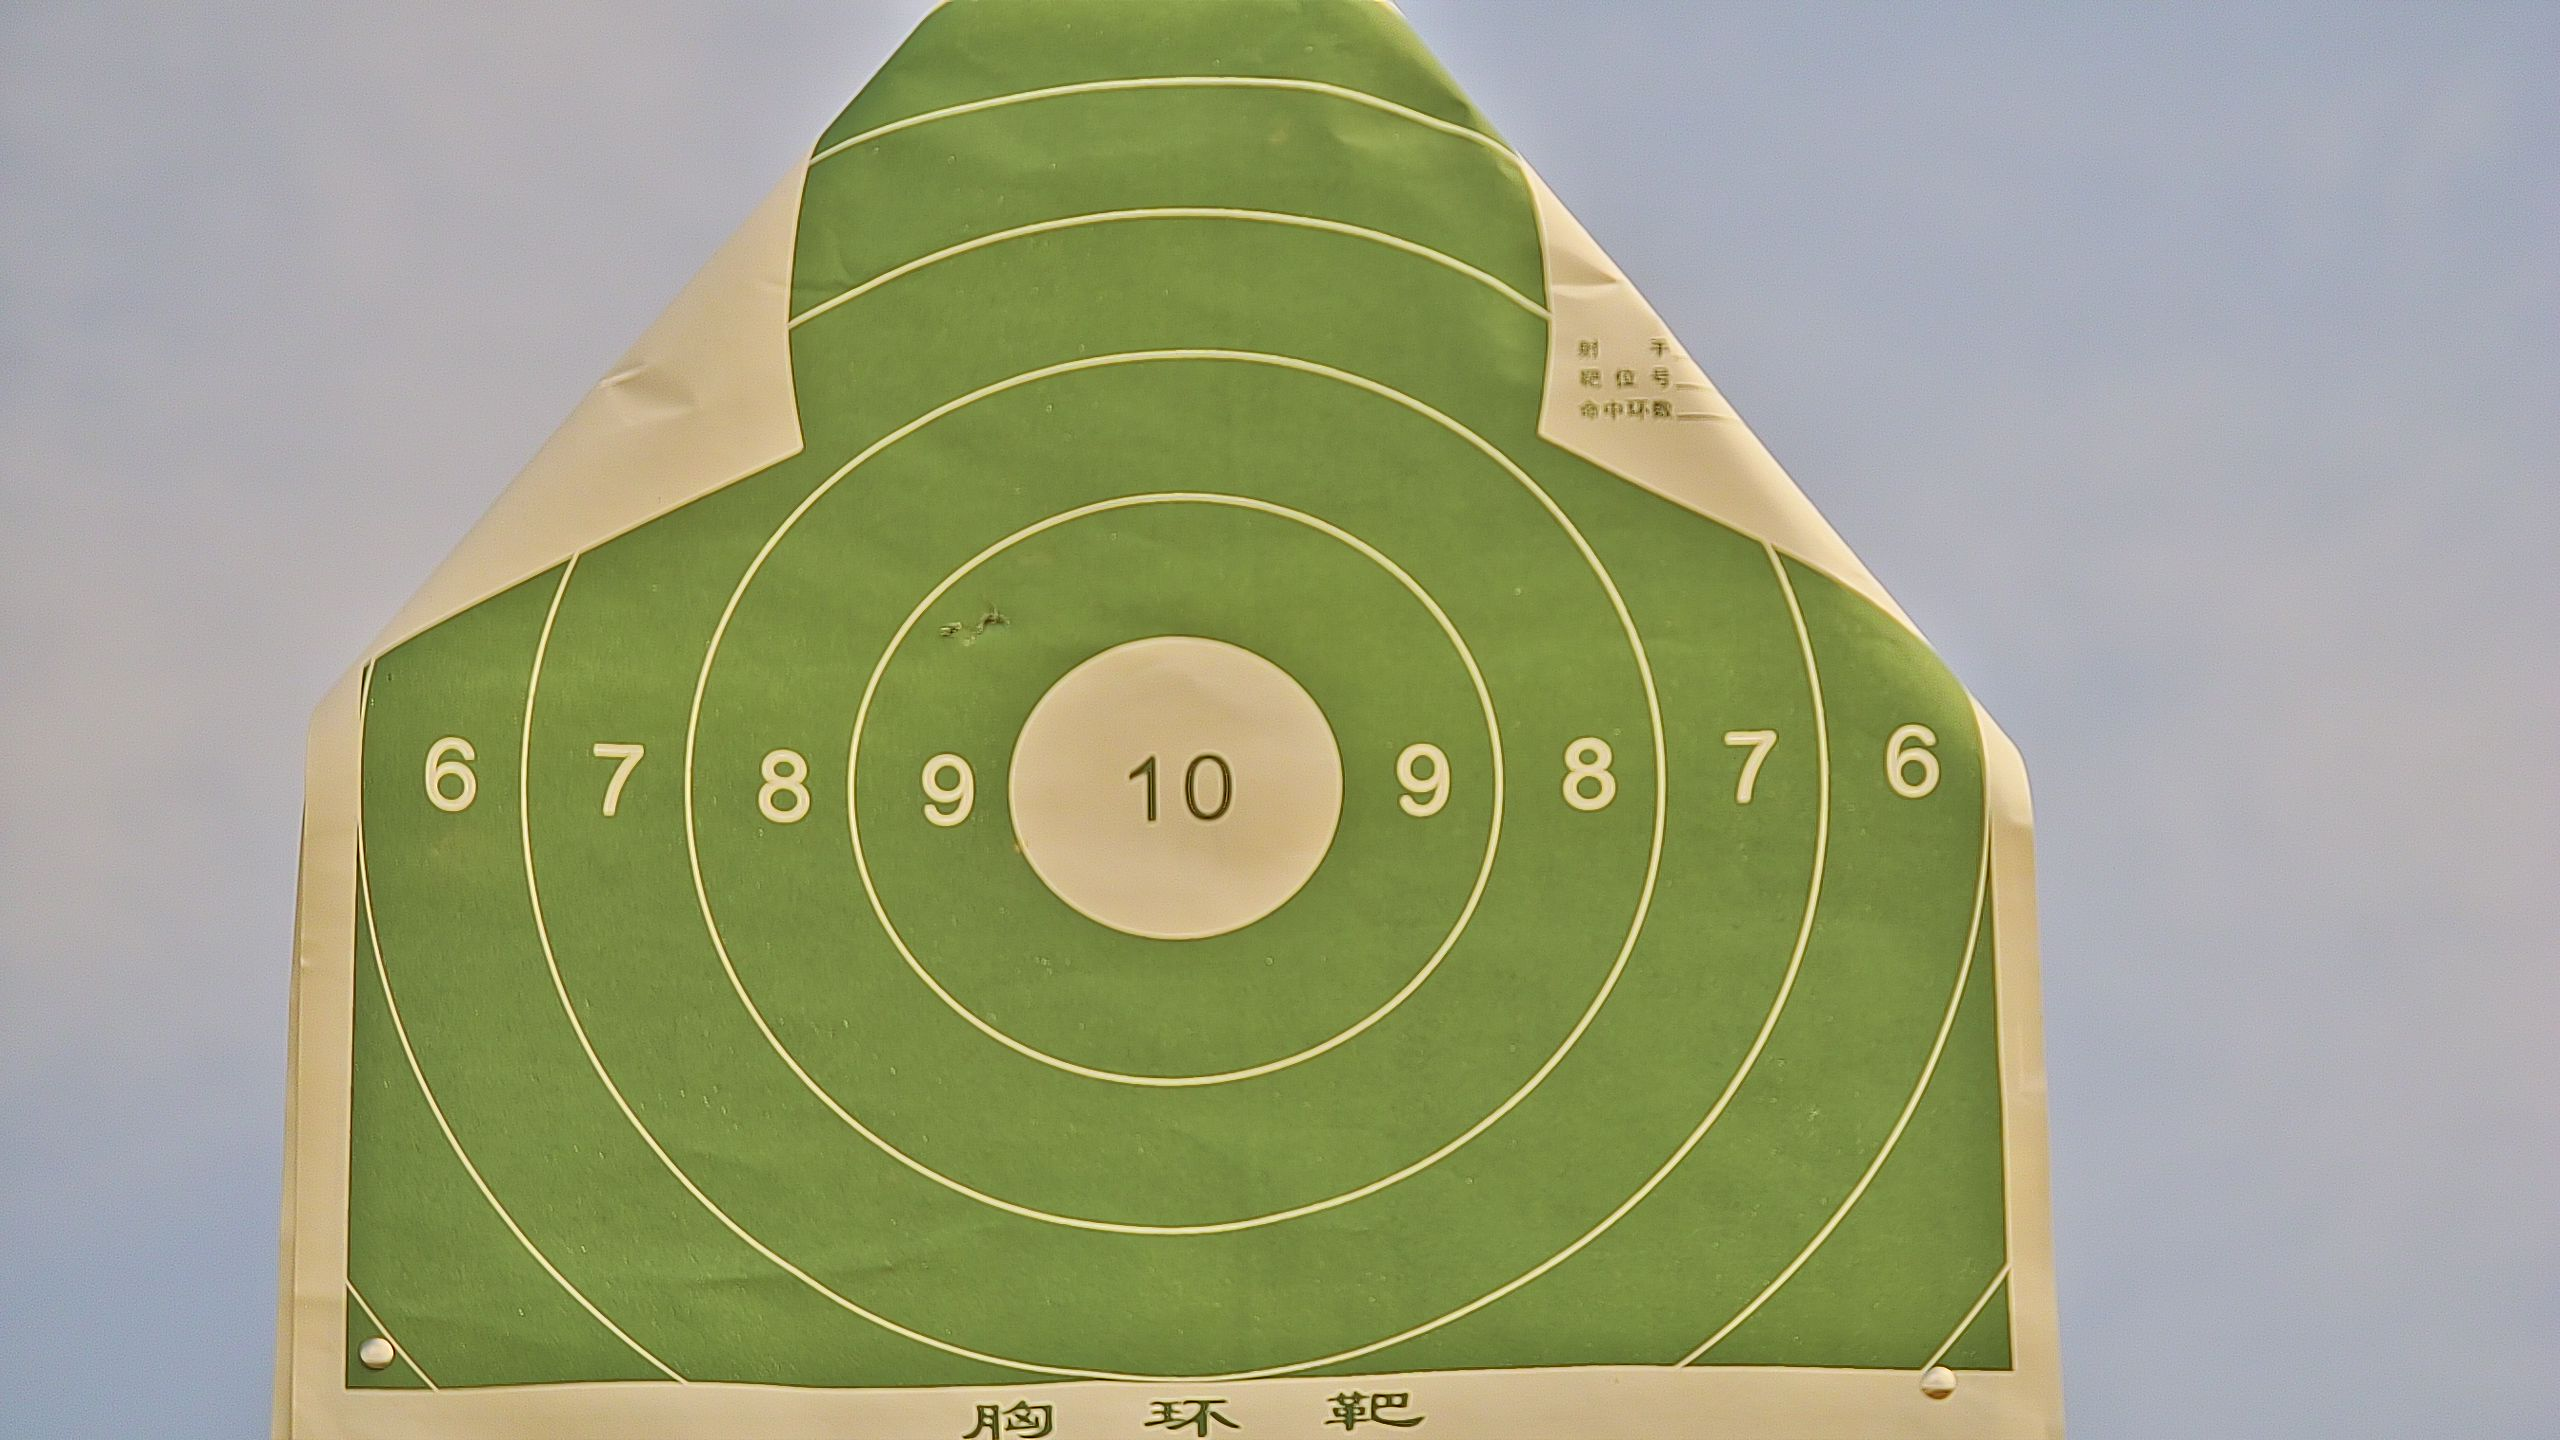target: (352, 2, 2020, 1412)
ten: (1000, 626, 1349, 944)
